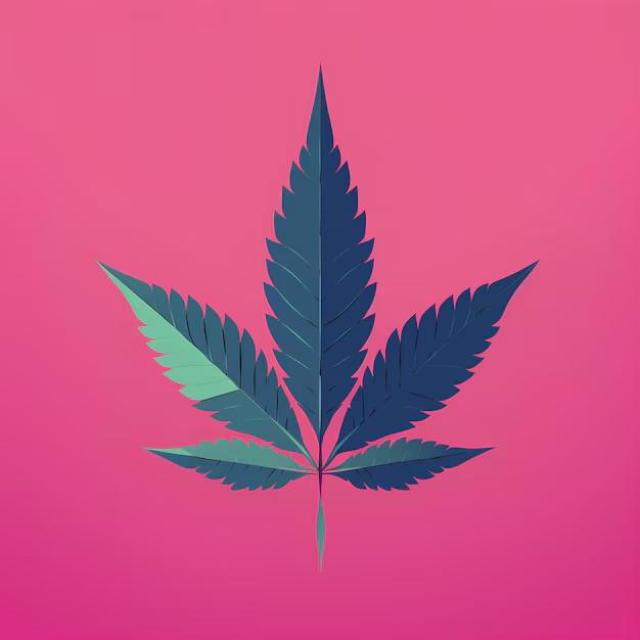cannabis: (90, 61, 546, 573)
